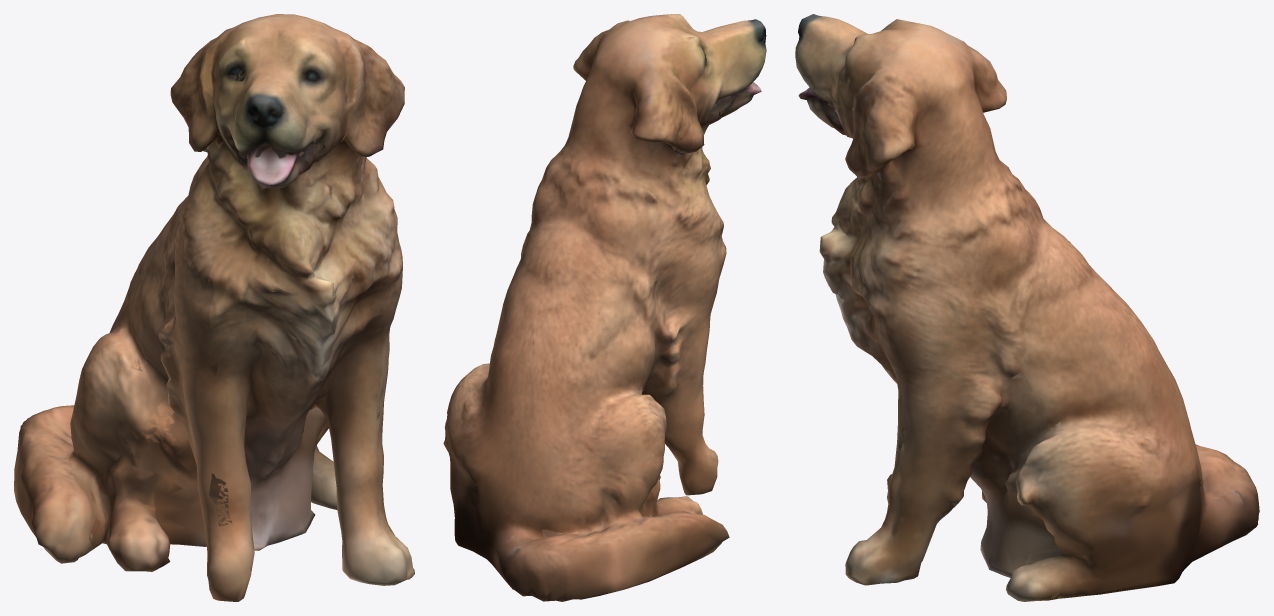
Rendered from pluto_model.glb.
The picture shows the model from 3 angles, left to right: view 1: azimuth 30°, elevation 25°; view 2: azimuth 150°, elevation 25°; view 3: azimuth 270°, elevation 25°; orthographic projection. The views are drawn at different scales.
Visible parts, largest first — view 1: geo1; view 2: geo1; view 3: geo1.
Part boxes in pixels (x1,y1,x2,y2): geo1: [14, 14, 414, 601]; geo1: [443, 14, 766, 601]; geo1: [795, 14, 1259, 601].
Bounding box in the file's own units: 0.3232 × 0.5481 × 0.4511.
Materials: 1 (1 with a texture image).
